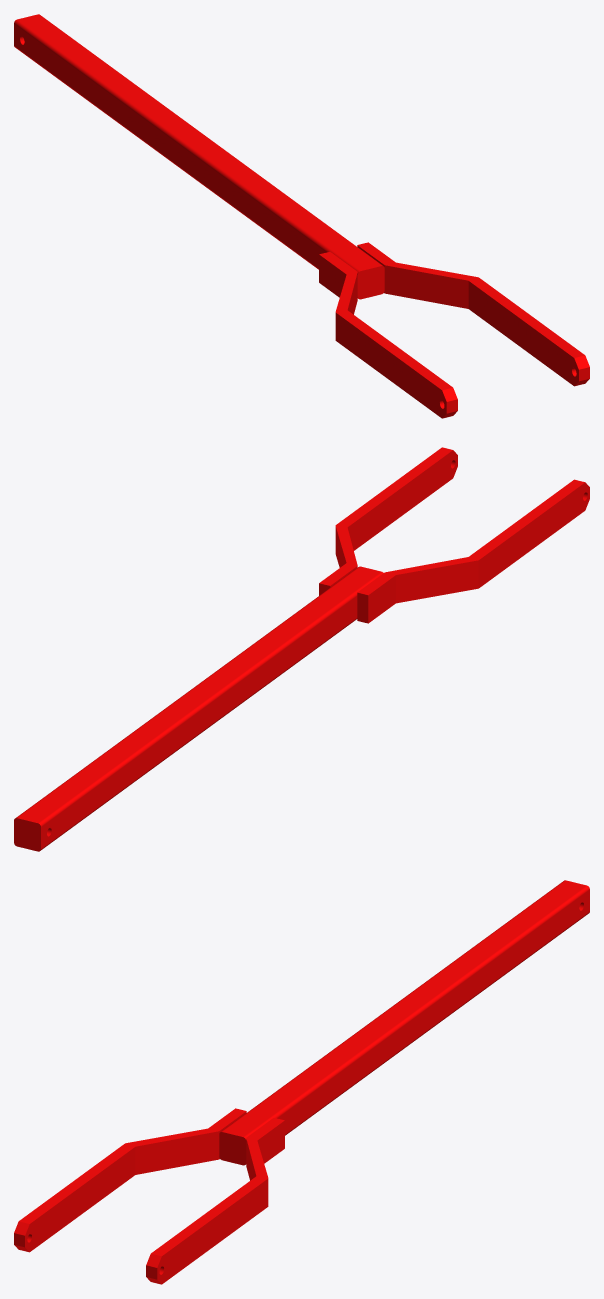
File: outer_pitch_top.dae
3 renders of one model, top to bottom at view 1: azimuth 30°, elevation 25°; view 2: azimuth 150°, elevation 25°; view 3: azimuth 330°, elevation 25°, orthographic.
Parts seen in each view (by area): view 1: Actor0; view 2: Actor0; view 3: Actor0.
Boxes of the visible parts, x1,y1,x2,y2 form: Actor0: (14,14,589,418); Actor0: (14,447,589,851); Actor0: (14,880,589,1284).
Size of the model in its own units: 0.09 by 0.017 by 0.534.
